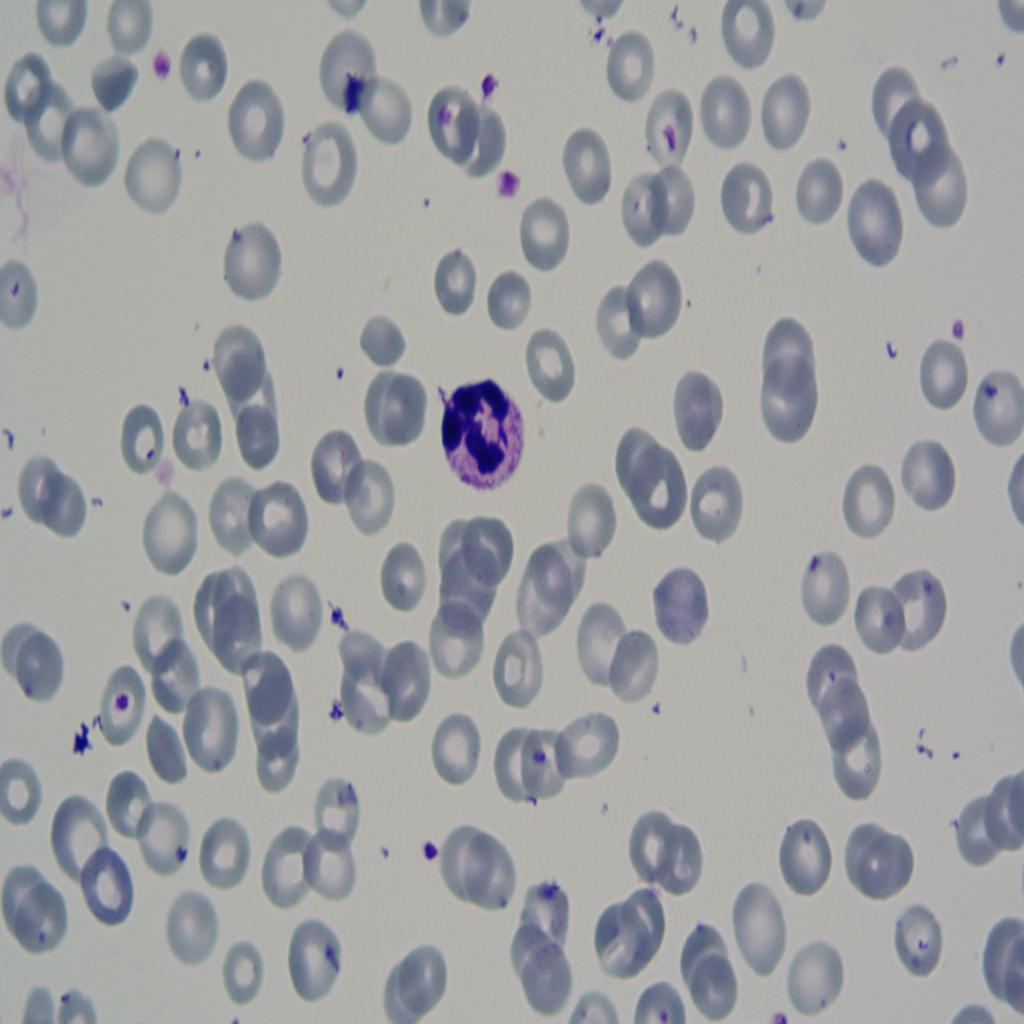Neutrofil: (420, 362, 525, 490)
Platelet: (151, 42, 199, 85), (951, 292, 978, 349), (416, 826, 449, 872), (474, 53, 502, 104), (492, 156, 516, 197), (110, 679, 132, 720), (660, 113, 682, 150), (170, 848, 195, 880)
